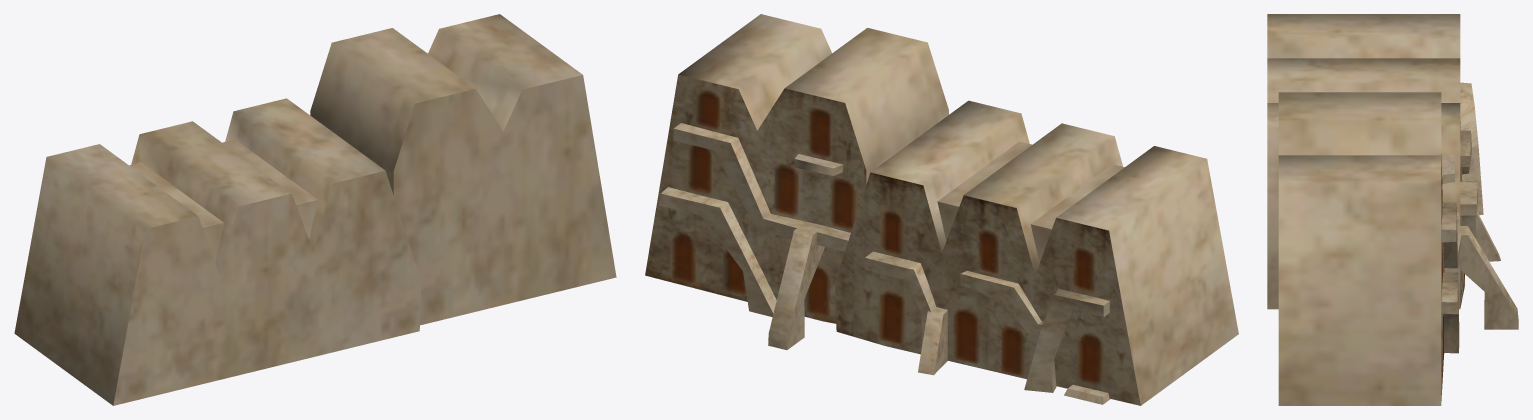
Rendered from thm_tato_block_bldg_32x16_s03_l3.fbx.
The picture shows the model from 3 angles, left to right: view 1: azimuth 30°, elevation 25°; view 2: azimuth 150°, elevation 25°; view 3: azimuth 270°, elevation 25°; orthographic projection. The views are drawn at different scales.
Parts seen in each view (by area): view 1: mesh_node; view 2: mesh_node; view 3: mesh_node.
Part boxes in pixels (x1,y1,x2,y2): mesh_node: (14,14,616,405); mesh_node: (645,14,1238,405); mesh_node: (1267,14,1518,405).
Bounding box in the file's own units: 33.68 × 14.2 × 14.76.
